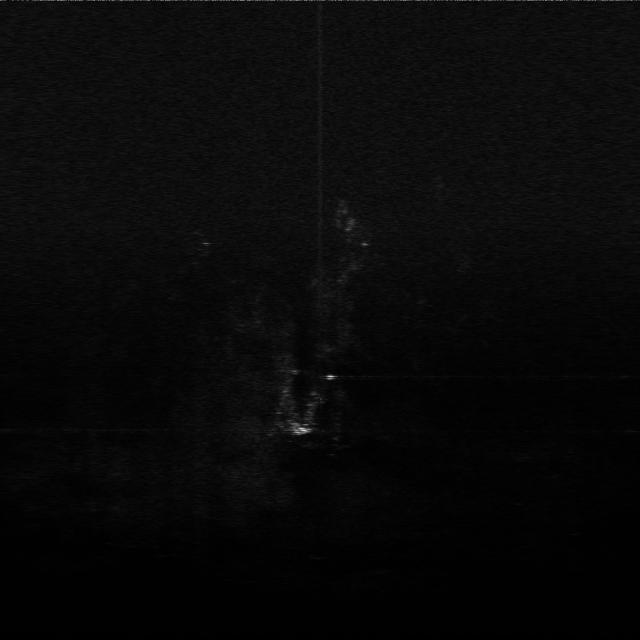rov: (287, 417, 322, 437)
